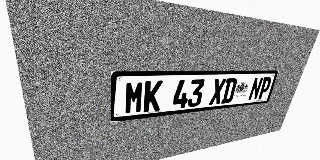3: (187, 79, 205, 107)
4: (172, 79, 191, 109)
D: (221, 78, 238, 104)
K: (143, 80, 163, 112)
M: (124, 81, 145, 114)
N: (248, 77, 264, 101)
P: (257, 77, 273, 100)
X: (209, 78, 226, 105)
